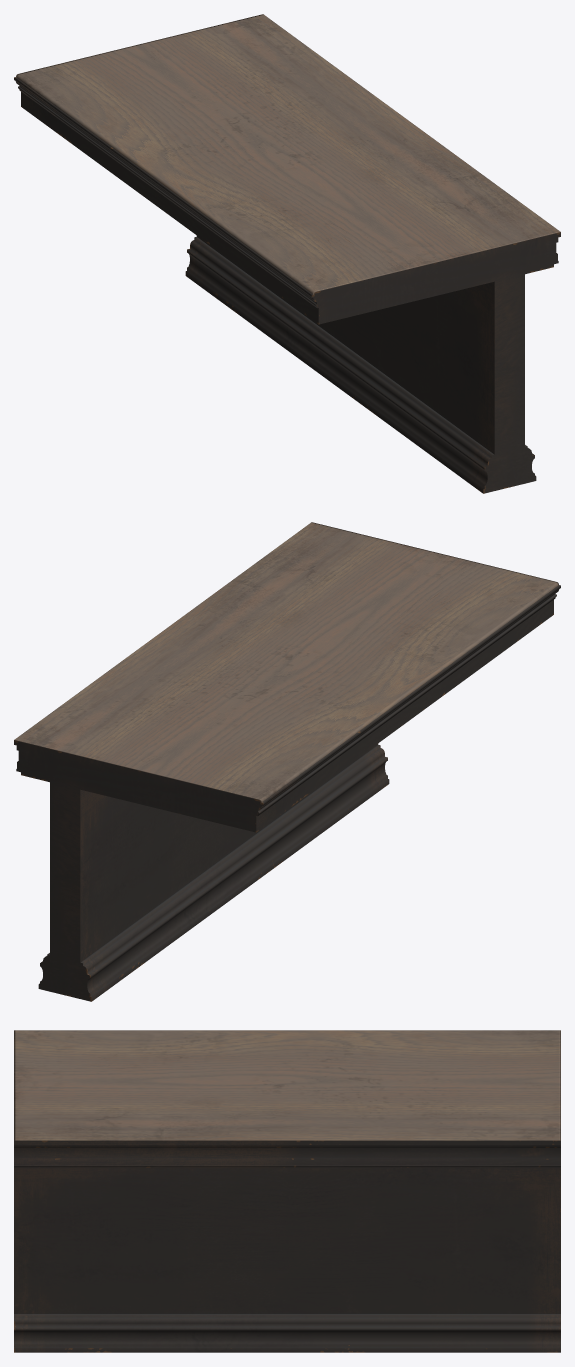
Rendered from SM_TableATop.fbx.
3 views of the same model, one above another, from view 1: azimuth 30°, elevation 25°; view 2: azimuth 150°, elevation 25°; view 3: azimuth 270°, elevation 25° (orthographic). The views are drawn at different scales.
Parts seen in each view (by area): view 1: SM_TableATop_LOD0; view 2: SM_TableATop_LOD0; view 3: SM_TableATop_LOD0.
Boxes of the visible parts, box(x1,y1,x2,y2) form: SM_TableATop_LOD0: box(14, 14, 560, 493); SM_TableATop_LOD0: box(14, 522, 560, 1001); SM_TableATop_LOD0: box(14, 1030, 560, 1352).
Bounding box in the file's own units: 96.66 × 200 × 90.
Materials: 1 (1 with a texture image).
